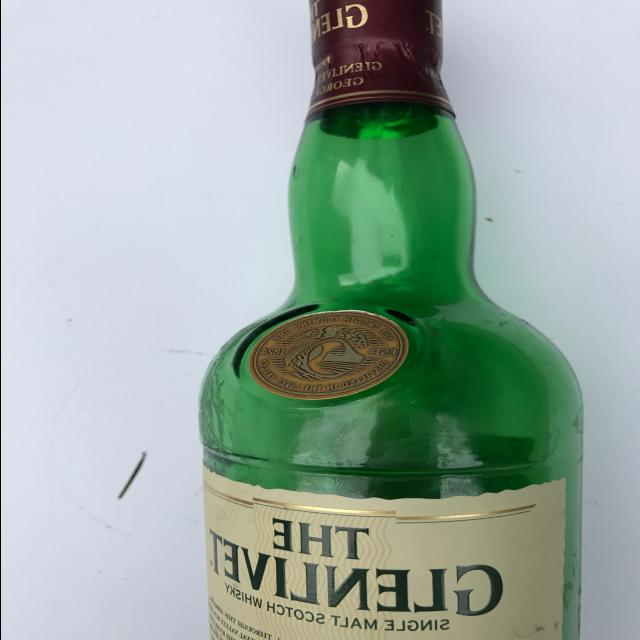glass: (154, 0, 586, 640)
